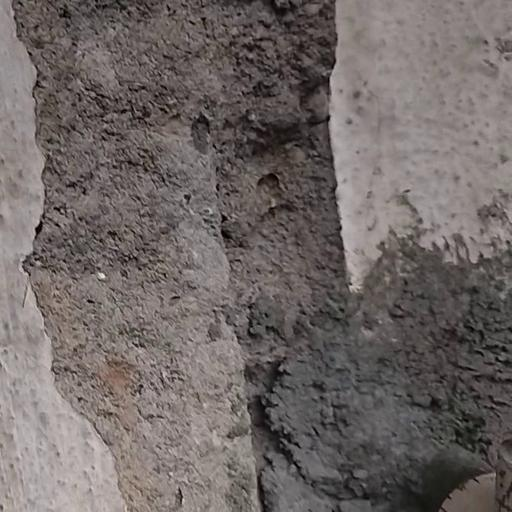spalling: (8, 0, 512, 512)
